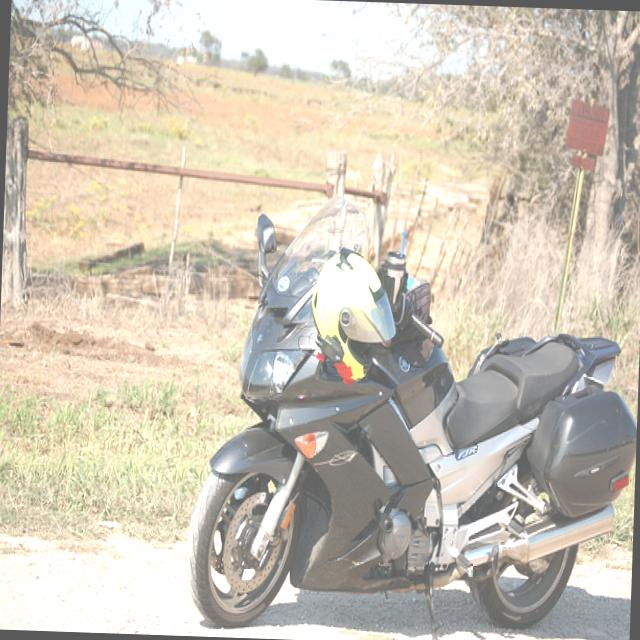Vehicle: (158, 206, 639, 624)
